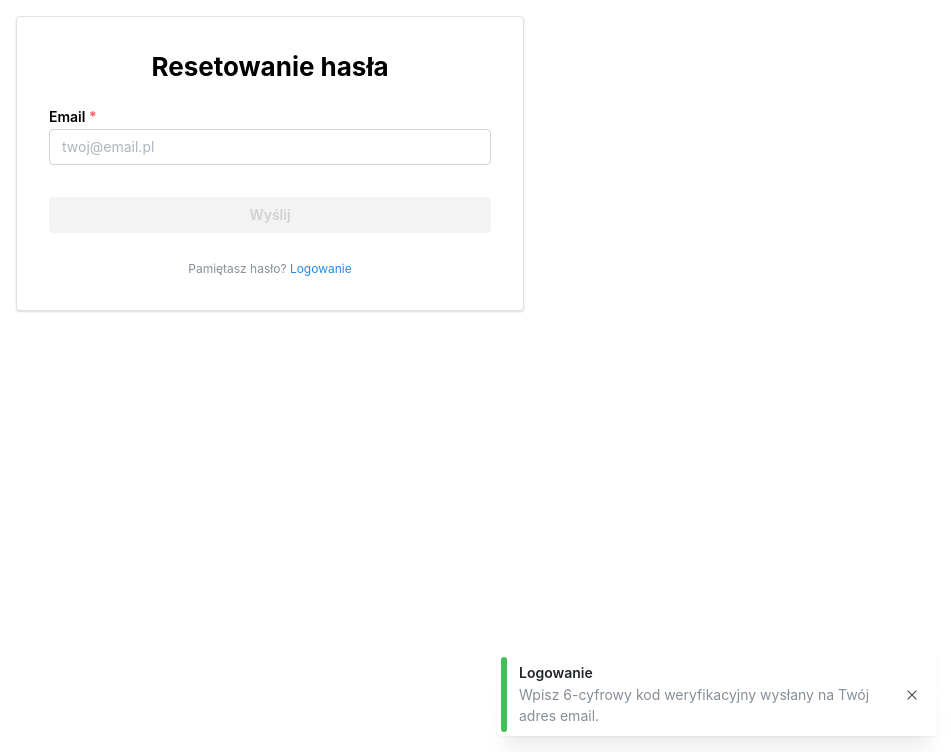
Test case: authentication UI › starts password reset only after an email is entered
Expected: the button "Wyślij" is disabled, [49,197,491,233]
Step 1. Type "runner@example.com" into the field labelled "Email *" → (270,147), box [49,129,491,165]
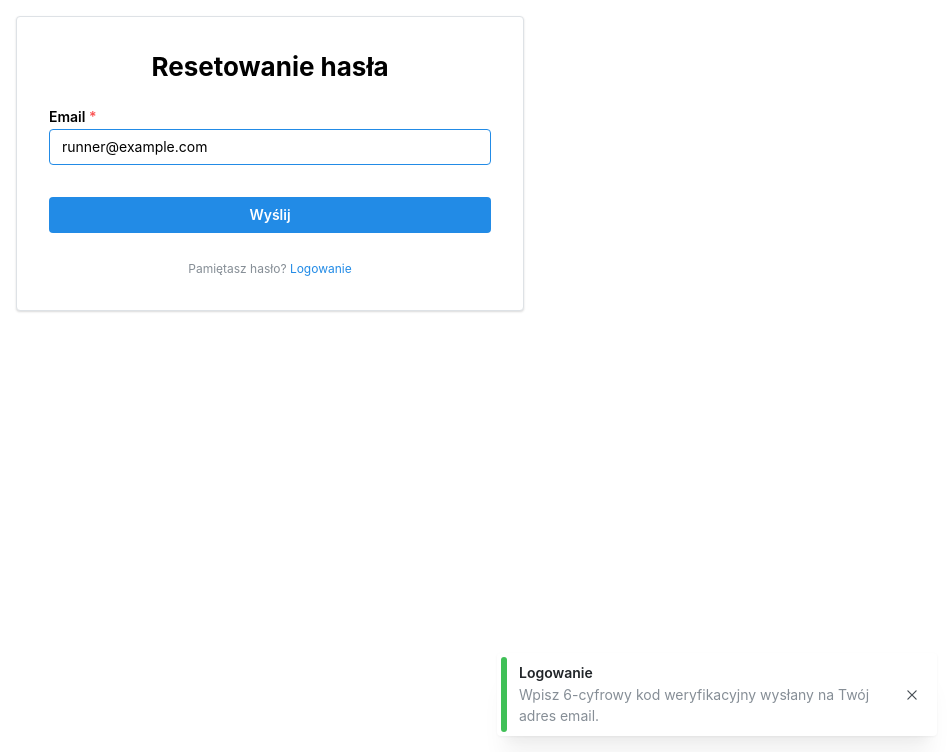
Step 2. Click the button "Wyślij" → (270,215), box [49,197,491,233]
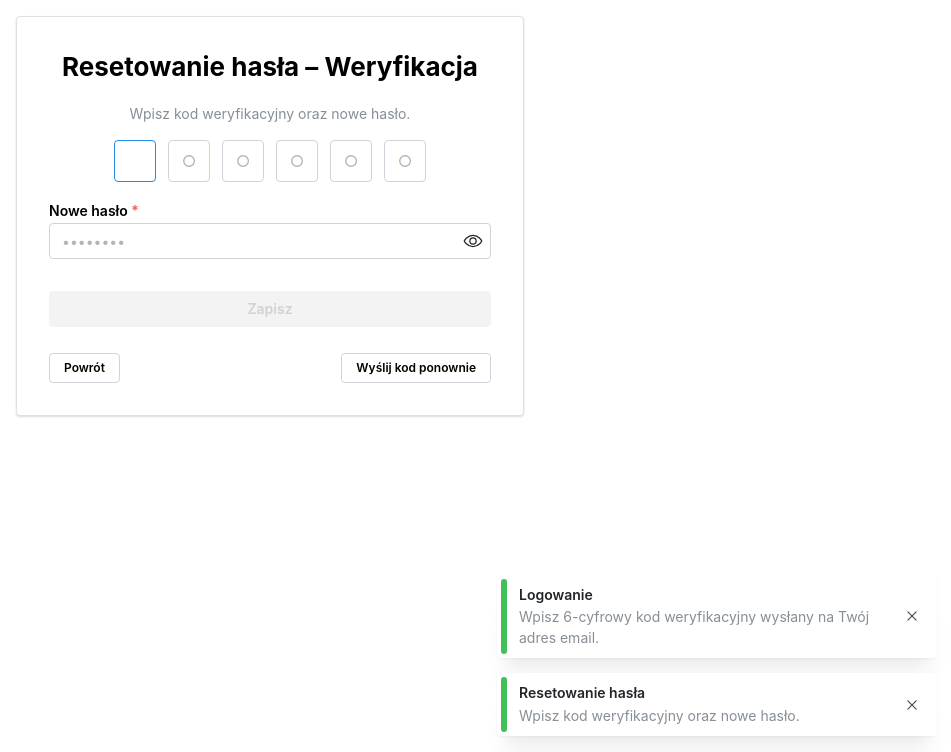
Expected: the heading "Resetowanie hasła – Weryfikacja" is shown, [49,49,491,84]
